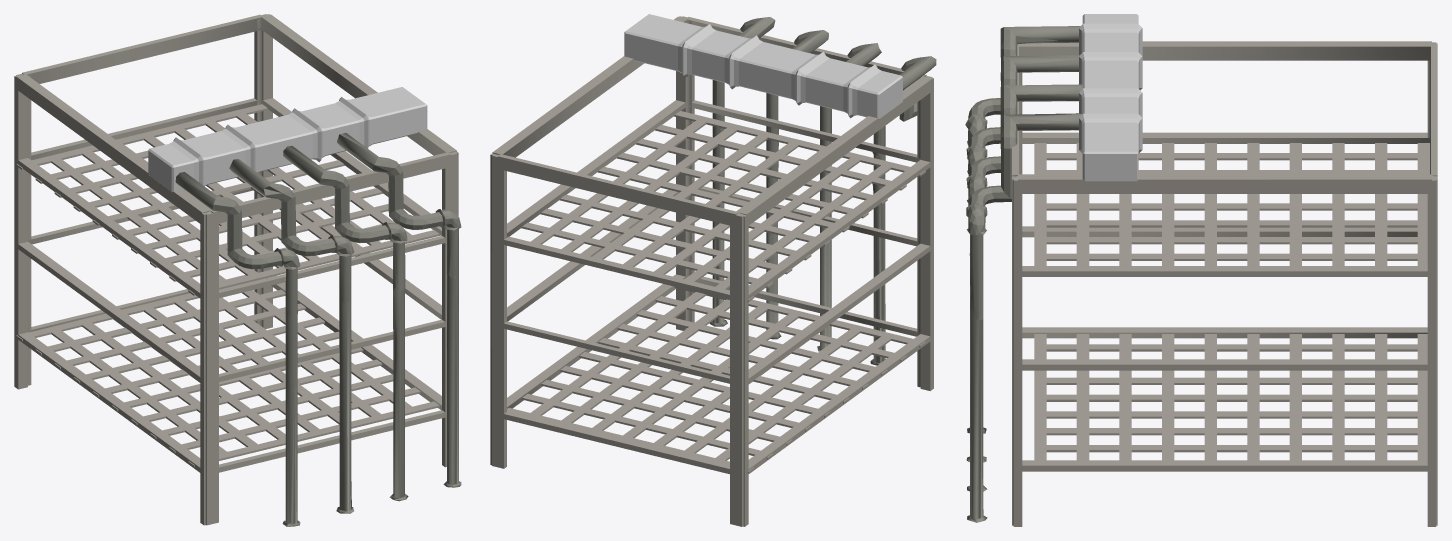
Rendered from pipe_rack.fbx.
3 renders of one model, left to right at view 1: azimuth 30°, elevation 25°; view 2: azimuth 150°, elevation 25°; view 3: azimuth 270°, elevation 25°, orthographic. The views are drawn at different scales.
Parts seen in each view (by area): view 1: pipe_rack; view 2: pipe_rack; view 3: pipe_rack.
Boxes of the visible parts, box(x1,y1,x2,y2) form: pipe_rack: box(14, 14, 461, 526); pipe_rack: box(490, 14, 936, 526); pipe_rack: box(965, 14, 1437, 526).
Bounding box in the file's own units: 307 × 395 × 441.
